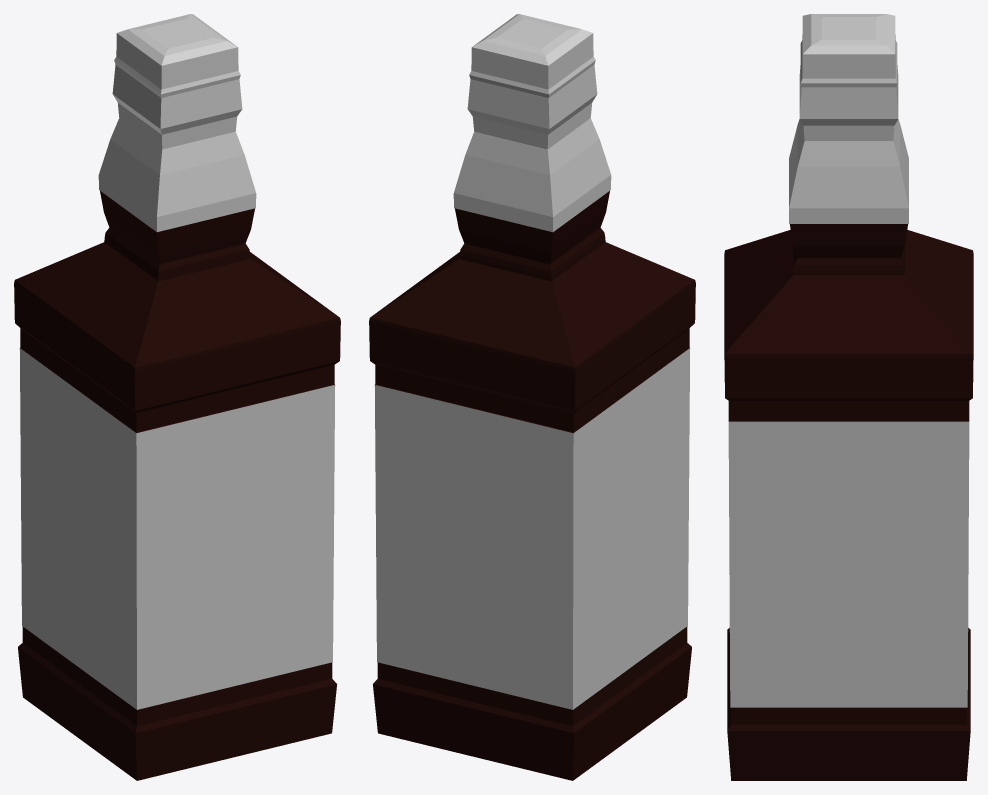
3 views of the same model, side by side, from view 1: azimuth 30°, elevation 25°; view 2: azimuth 150°, elevation 25°; view 3: azimuth 270°, elevation 25° (orthographic). The views are drawn at different scales.
Parts seen in each view (by area): view 1: JackDaniel's_Cube.001; view 2: JackDaniel's_Cube.001; view 3: JackDaniel's_Cube.001.
Part boxes in pixels (box(x1,y1,x2,y2)): JackDaniel's_Cube.001: box(14, 14, 340, 780); JackDaniel's_Cube.001: box(369, 14, 695, 780); JackDaniel's_Cube.001: box(724, 14, 973, 780).
Size of the model in its own units: 0.099 by 0.3129 by 0.1004.
